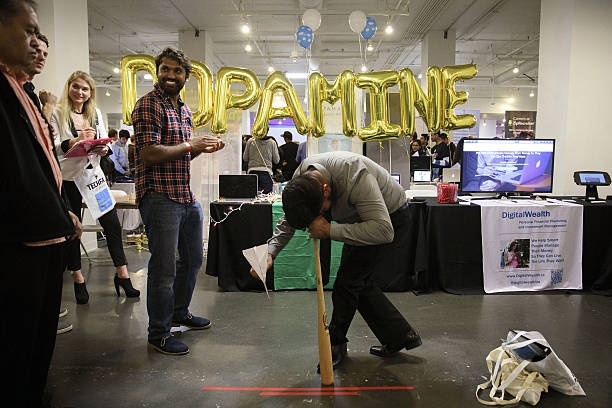bita: (306, 225, 335, 383)
